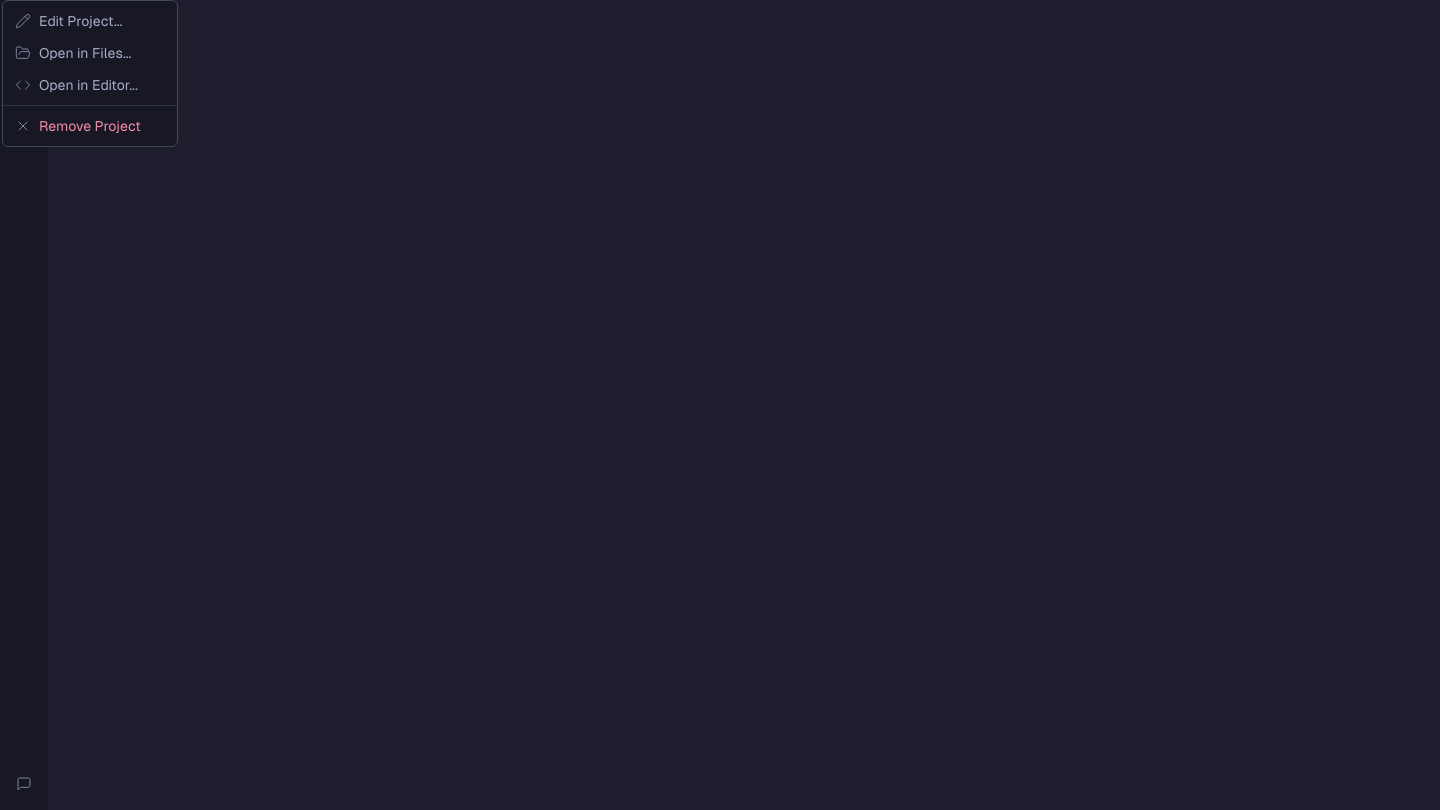
Test case: ProjectSidebar › opens remove confirmation dialog when Remove Project is clicked
Step 1. Click the menu item "Remove Project" → click(78, 126), box [15,118,141,134]
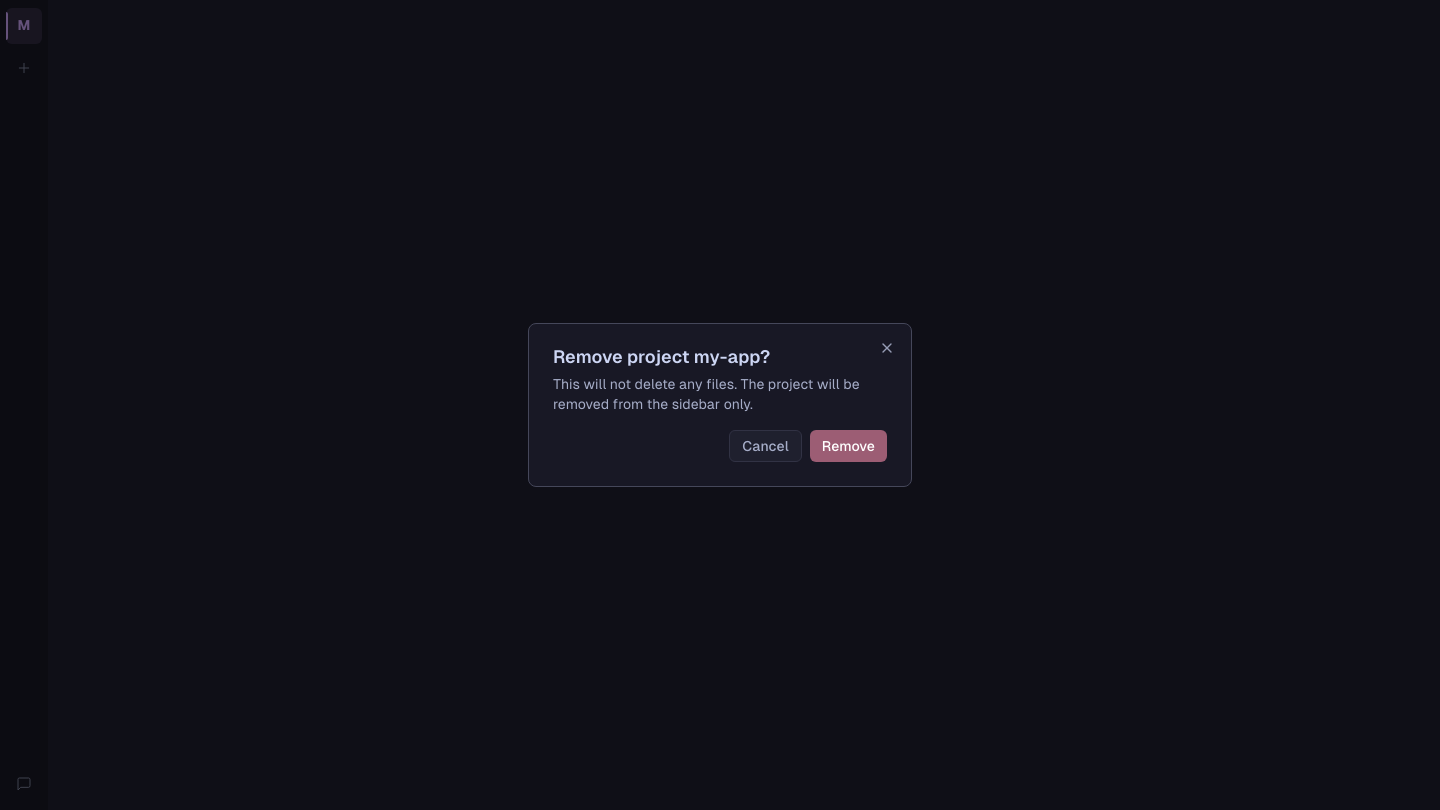
Now the heading "Remove project my-app?" is shown, box [553,346,770,367]
Now the text "will not delete any files" is shown, box [553,376,860,412]
